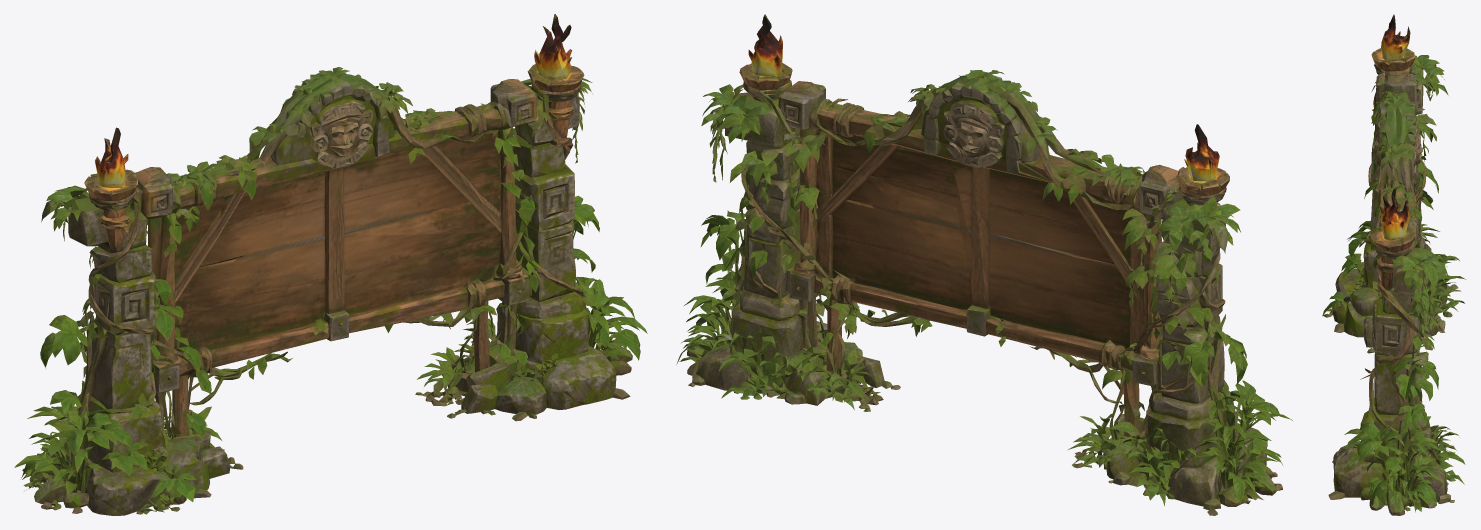
Rendered from question_board.rt.glb.
The picture shows the model from 3 angles, left to right: view 1: azimuth 30°, elevation 25°; view 2: azimuth 150°, elevation 25°; view 3: azimuth 270°, elevation 25°; orthographic projection. The views are drawn at different scales.
Parts seen in each view (by area): view 1: output_unwrapped; view 2: output_unwrapped; view 3: output_unwrapped.
Part boxes in pixels (left/top/right/bottom): output_unwrapped: left=14, top=14, right=647, bottom=515; output_unwrapped: left=676, top=14, right=1292, bottom=515; output_unwrapped: left=1322, top=14, right=1465, bottom=515.
Bounding box in the file's own units: 1.91 × 1.08 × 0.4747.
1 material, 1 textured.
